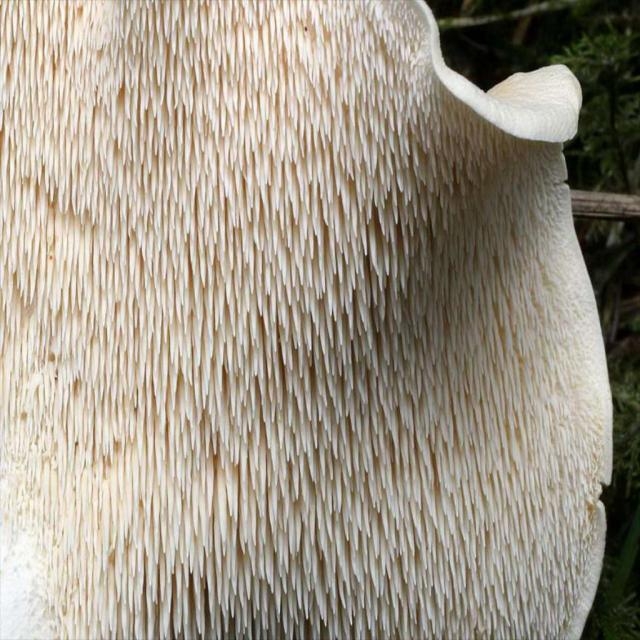Mushroom: (0, 0, 615, 639)
